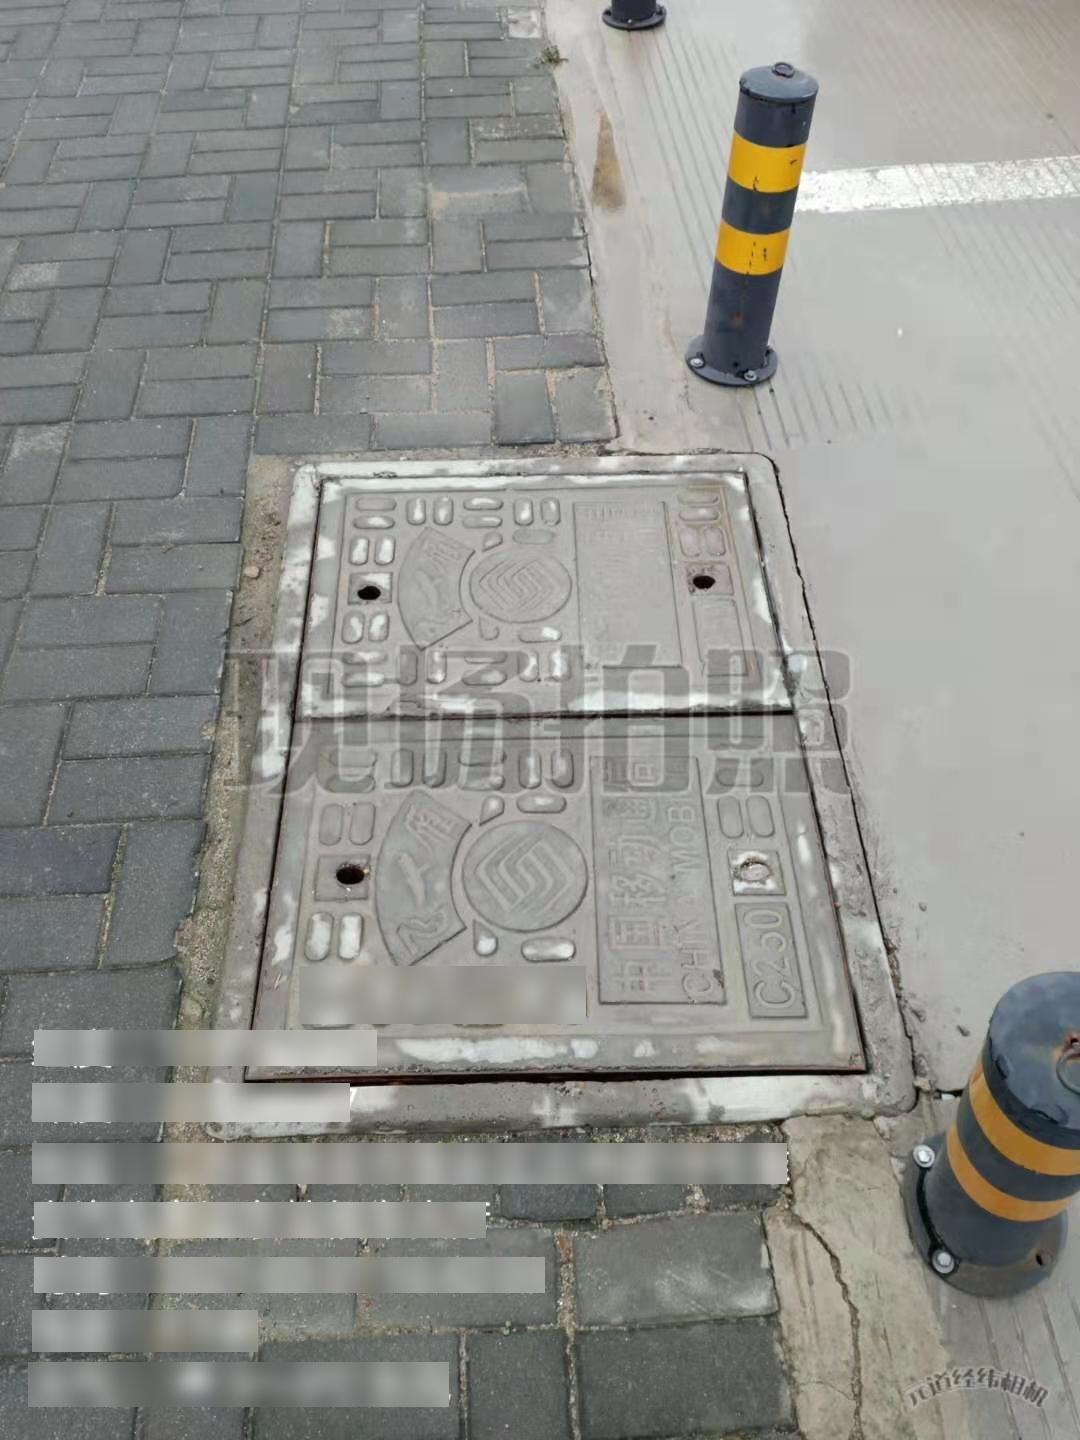wellcover: (261, 443, 908, 1109)
